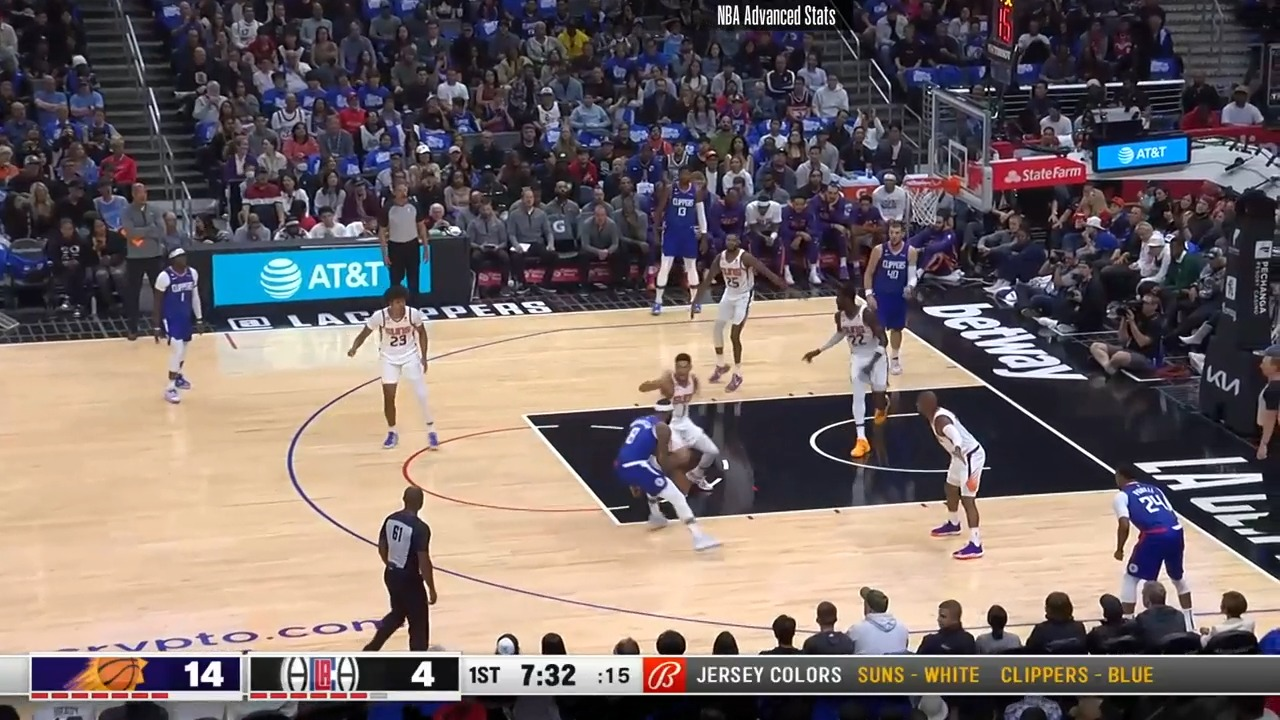net: (902, 174, 964, 230)
player: (807, 288, 900, 466), (627, 402, 725, 558), (348, 291, 437, 457), (700, 233, 789, 390), (1104, 463, 1189, 618), (638, 348, 728, 490), (925, 388, 993, 559), (857, 223, 921, 382), (652, 165, 713, 322), (151, 250, 204, 407)
referee: (366, 484, 447, 653), (381, 183, 432, 312), (1253, 348, 1280, 534)
